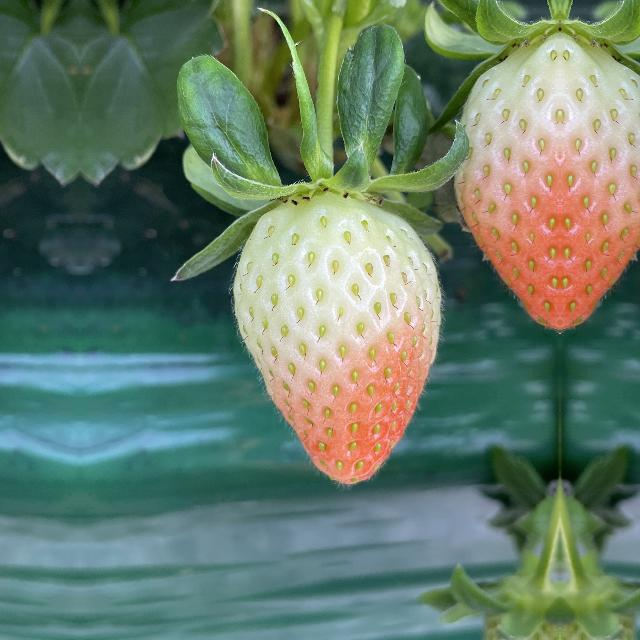Health_50: (227, 190, 449, 492), (452, 21, 560, 336), (560, 21, 640, 336)
